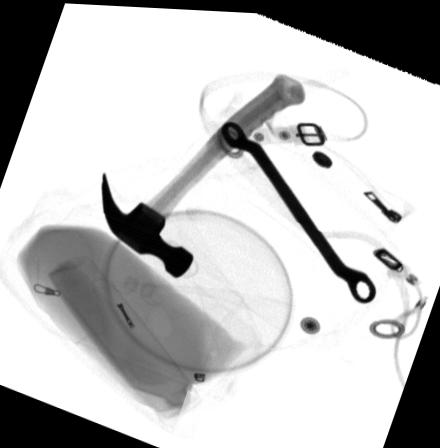Hammer: (101, 70, 304, 280)
Wrench: (219, 120, 377, 302)
